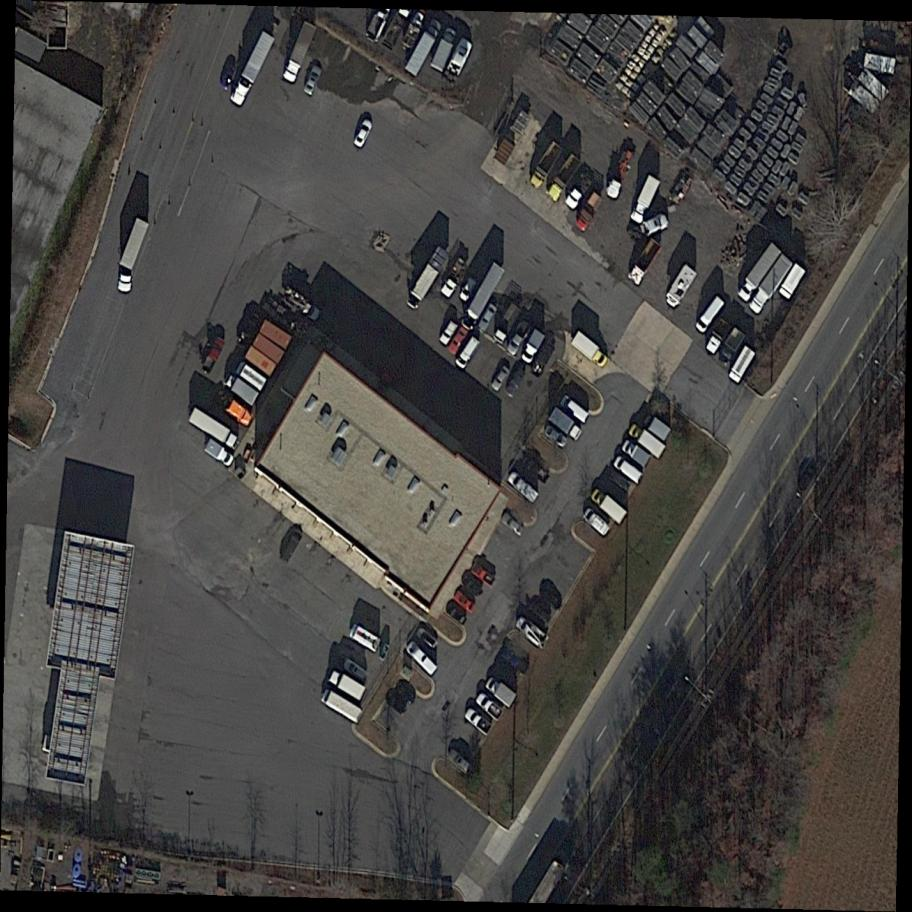large-vehicle: (228, 30, 276, 109), (459, 261, 507, 331), (402, 245, 451, 312), (113, 214, 154, 293), (746, 255, 796, 315), (278, 19, 321, 86), (737, 243, 784, 301), (186, 406, 243, 451), (403, 22, 444, 79), (315, 686, 367, 729), (623, 237, 665, 288), (544, 154, 584, 203), (661, 263, 700, 312), (624, 420, 670, 461), (587, 485, 631, 527), (528, 142, 566, 189), (323, 666, 370, 703), (569, 331, 613, 370), (343, 620, 386, 656), (630, 175, 662, 223), (572, 191, 607, 234), (219, 373, 262, 408), (491, 302, 525, 346), (430, 25, 460, 73), (231, 358, 271, 394), (562, 171, 597, 212), (547, 407, 586, 443), (726, 344, 757, 386), (716, 326, 747, 367), (776, 263, 808, 302), (618, 439, 655, 471), (222, 398, 258, 429), (704, 318, 732, 357), (639, 412, 673, 442)
small-vehicle: (508, 612, 553, 654), (691, 292, 729, 336), (501, 468, 543, 506), (443, 36, 477, 81), (402, 639, 440, 679), (607, 452, 648, 488), (481, 673, 520, 709), (578, 505, 616, 541), (198, 436, 237, 470), (497, 643, 534, 678), (275, 526, 308, 565), (557, 393, 594, 426), (197, 336, 228, 375), (504, 318, 535, 357), (473, 690, 508, 724), (526, 341, 557, 378), (461, 706, 496, 738), (496, 508, 531, 539), (443, 747, 477, 778), (453, 335, 483, 370), (538, 422, 571, 453), (448, 588, 480, 618), (468, 561, 500, 591), (339, 656, 372, 685), (637, 211, 670, 240), (501, 366, 529, 400), (442, 600, 473, 629), (535, 582, 566, 611), (351, 117, 377, 151), (391, 679, 421, 708), (383, 689, 412, 718), (412, 625, 443, 652), (445, 325, 472, 356), (488, 364, 514, 396), (475, 303, 501, 335), (436, 317, 462, 347), (457, 275, 481, 304), (217, 61, 239, 91), (303, 65, 324, 96)
